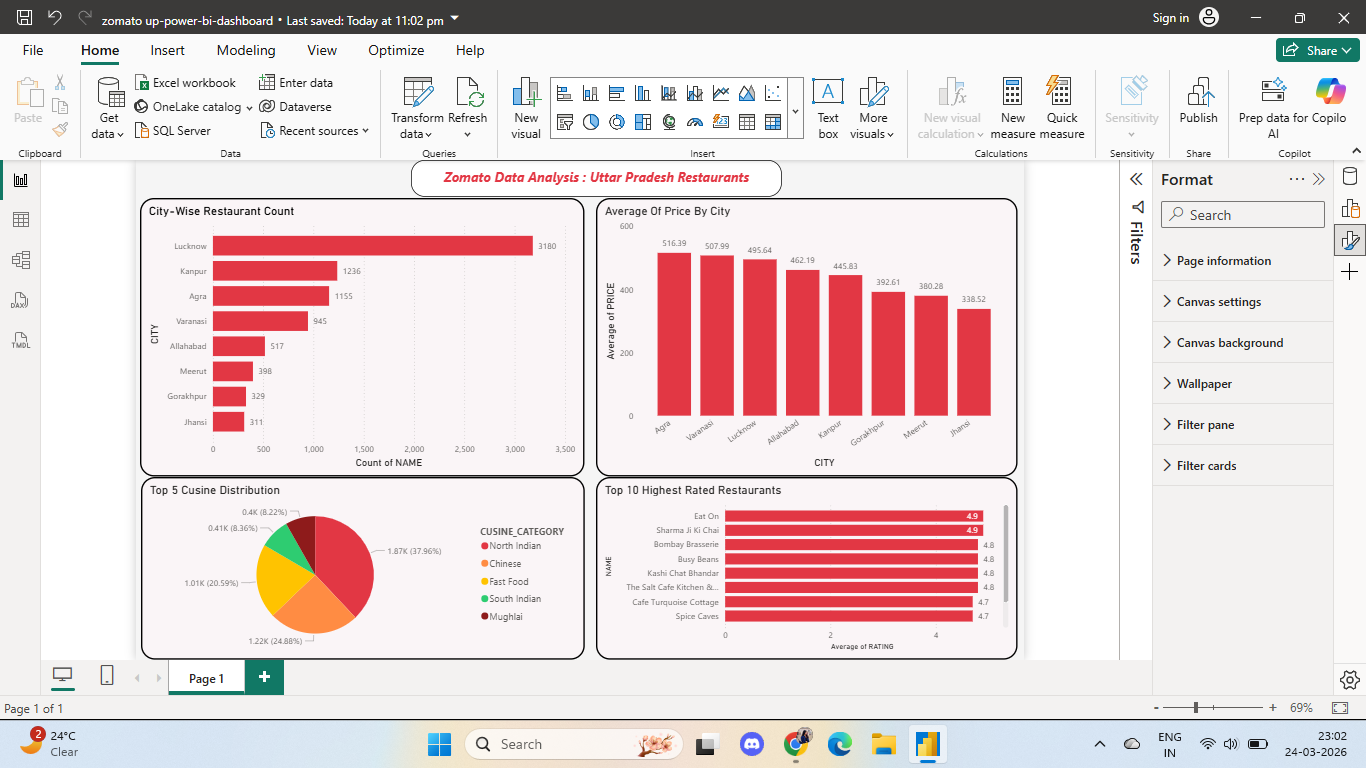

The dashboard page shown, as its layout file describes it:
{"tool":"powerbi","page":{"name":"Page 1","canvas":[1280,720],"ordinal":0},"visuals":[{"type":"barChart","title":"City-Wise Restaurant Count","fields":{"Y":["CountNonNull(Zomato FInal _up.NAME)"],"Category":["Zomato FInal _up.CITY"]},"box":[5.7,54.3,640,401.4],"z":0},{"type":"columnChart","title":"Average Of Price By City","fields":{"Category":["Zomato FInal _up.CITY"],"Y":["Avg(Zomato FInal _up.PRICE)"]},"box":[662.9,54.3,607.1,401.4],"z":1000},{"type":"pieChart","title":"Top 5 Cusine Distribution","fields":{"Y":["CountNonNull(Zomato FInal _up.NAME)"],"Category":["Zomato FInal _up.CUSINE_CATEGORY"]},"box":[7.1,457.1,638.6,262.9],"z":2000},{"type":"clusteredBarChart","title":"Top 10 Highest Rated Restaurants","fields":{"Y":["Avg(Zomato FInal _up.RATING)"],"Category":["Zomato FInal _up.NAME"]},"box":[662.9,457.1,607.1,262.9],"z":3000},{"type":"textbox","box":[395.7,0,534.3,53],"z":4000}]}

Visuals, with their boxes on the page's 1280x720 design canvas (x1, y1, x2, y2). These are canvas units, not pixel positions in the 1366x768 screenshot, which may show the page scaled, cropped or inside an application window:
"City-Wise Restaurant Count" barChart: detection(6, 54, 646, 456)
"Average Of Price By City" columnChart: detection(663, 54, 1270, 456)
"Top 5 Cusine Distribution" pieChart: detection(7, 457, 646, 720)
"Top 10 Highest Rated Restaurants" clusteredBarChart: detection(663, 457, 1270, 720)
textbox: detection(396, 0, 930, 53)
